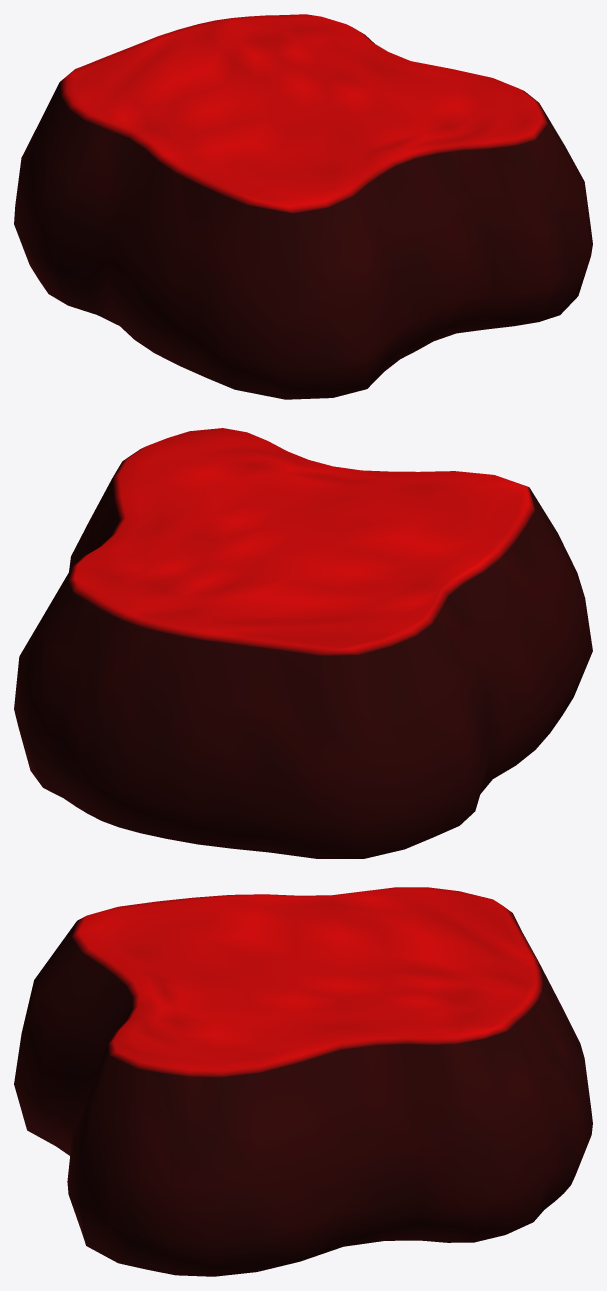
Rendered from geology-landforms-iceplateau_v2.fbx.
The picture shows the model from 3 angles, top to bottom: view 1: azimuth 30°, elevation 25°; view 2: azimuth 150°, elevation 25°; view 3: azimuth 270°, elevation 25°; orthographic projection. The views are drawn at different scales.
Visible parts, largest first — view 1: IcePlateau_v2; view 2: IcePlateau_v2; view 3: IcePlateau_v2.
Part boxes in pixels (x1=…): IcePlateau_v2: x1=14, y1=14, x2=592, y2=399; IcePlateau_v2: x1=14, y1=428, x2=592, y2=858; IcePlateau_v2: x1=14, y1=887, x2=592, y2=1276.
Bounding box in the file's own units: 57.74 × 21.52 × 60.26.
